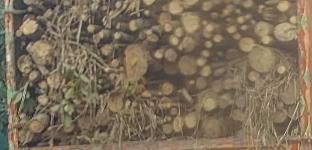large: (125, 45, 148, 79), (250, 48, 275, 72), (33, 42, 53, 60)
medium: (181, 12, 199, 33), (274, 23, 295, 41), (179, 56, 197, 74), (206, 120, 220, 137), (108, 96, 122, 112), (282, 89, 296, 105), (18, 56, 31, 73), (179, 37, 194, 51), (24, 21, 38, 35), (239, 38, 253, 52), (255, 22, 269, 36), (47, 73, 60, 87), (29, 120, 44, 132), (165, 61, 180, 73), (79, 116, 92, 129), (99, 111, 110, 126), (170, 1, 183, 13), (204, 99, 215, 111), (186, 115, 196, 128), (173, 117, 182, 131), (160, 13, 171, 24), (274, 112, 286, 122), (197, 77, 207, 89), (166, 50, 176, 61), (278, 0, 288, 11), (201, 65, 211, 76), (212, 81, 223, 91), (163, 124, 173, 134), (163, 84, 172, 94), (250, 72, 260, 81), (102, 45, 111, 55), (234, 110, 242, 121), (213, 34, 222, 43), (170, 36, 178, 46), (227, 26, 237, 34), (204, 27, 211, 38), (148, 34, 159, 41), (203, 2, 212, 10), (38, 96, 46, 105), (155, 50, 163, 59), (237, 98, 245, 107), (130, 21, 137, 31), (176, 28, 183, 37), (29, 72, 36, 80), (202, 50, 210, 57), (111, 60, 119, 67), (165, 23, 171, 32), (198, 58, 204, 66), (278, 67, 286, 73), (171, 108, 177, 114), (225, 82, 230, 89), (114, 33, 119, 39), (207, 25, 212, 31), (214, 71, 220, 76), (234, 34, 240, 39), (246, 15, 250, 19), (226, 18, 230, 21), (237, 10, 240, 13)
small: (86, 25, 94, 33), (262, 36, 269, 44), (238, 16, 244, 23), (206, 42, 212, 48), (290, 17, 296, 23), (116, 2, 121, 8), (92, 3, 97, 9), (17, 31, 22, 37), (104, 68, 109, 73), (217, 52, 223, 56), (147, 30, 152, 34), (241, 26, 246, 30), (203, 20, 207, 25), (28, 7, 32, 11), (145, 11, 149, 15), (163, 103, 166, 107), (260, 5, 264, 8), (258, 9, 261, 13), (252, 20, 255, 24), (167, 104, 170, 107)
